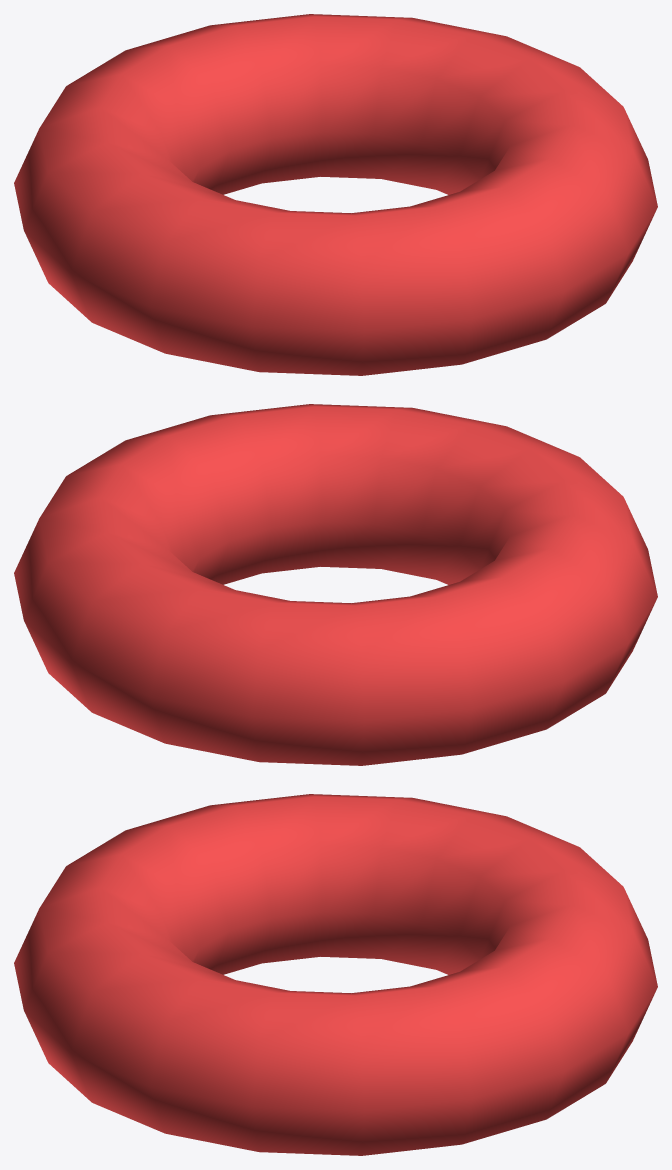
The model's file is Ring.fbx.
The picture shows the model from 3 angles, top to bottom: view 1: azimuth 30°, elevation 25°; view 2: azimuth 150°, elevation 25°; view 3: azimuth 270°, elevation 25°; orthographic projection.
Visible parts, largest first — view 1: Ring; view 2: Ring; view 3: Ring.
Part boxes in pixels (bbox=[...]): Ring: bbox=[14, 14, 657, 375]; Ring: bbox=[14, 404, 657, 765]; Ring: bbox=[14, 794, 657, 1155].
Size of the model in its own units: 0.0817 by 0.022 by 0.0817.
